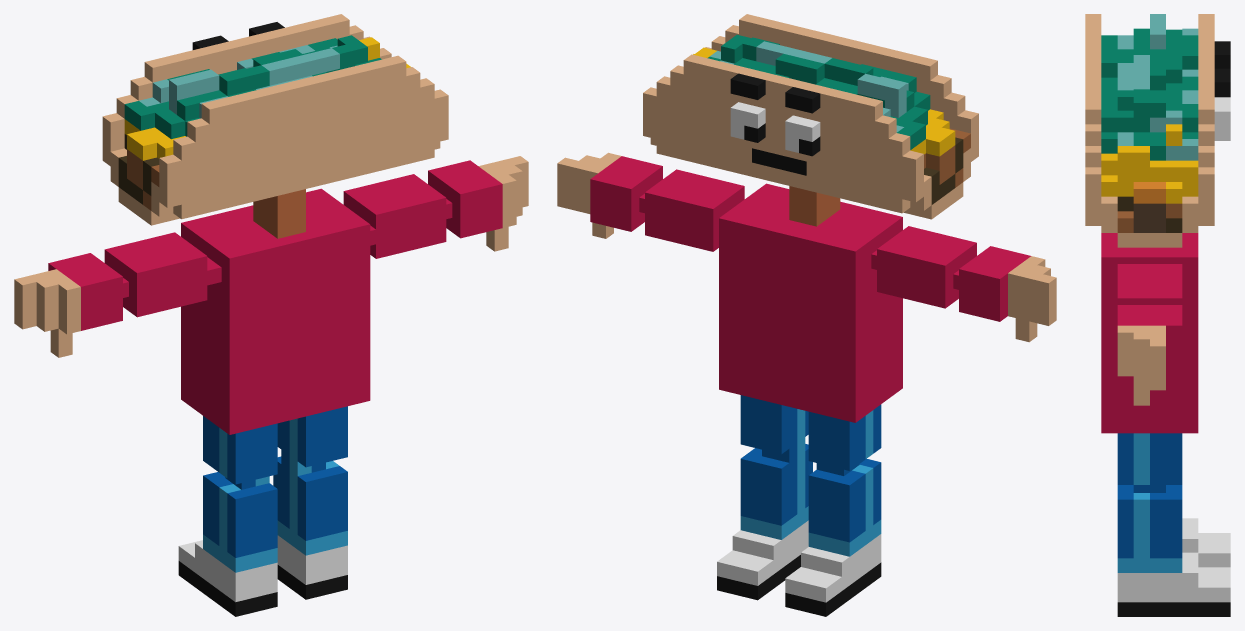
Rendered from AnimatedTacoGuy.obj.
3 renders of one model, left to right at view 1: azimuth 30°, elevation 25°; view 2: azimuth 150°, elevation 25°; view 3: azimuth 270°, elevation 25°, orthographic. The views are drawn at different scales.
Bounding box in the file's own units: 36 × 36 × 9.
1 material, 1 textured.
